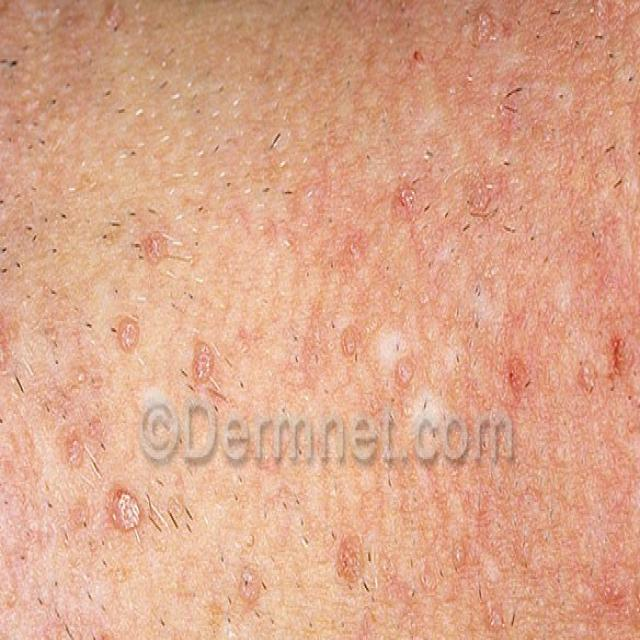Warts: (116, 202, 197, 305), (112, 314, 226, 379), (340, 320, 425, 381), (217, 568, 281, 640), (94, 482, 153, 560), (327, 525, 375, 599), (449, 16, 513, 67), (530, 442, 591, 484), (0, 15, 25, 101), (0, 326, 30, 380)
